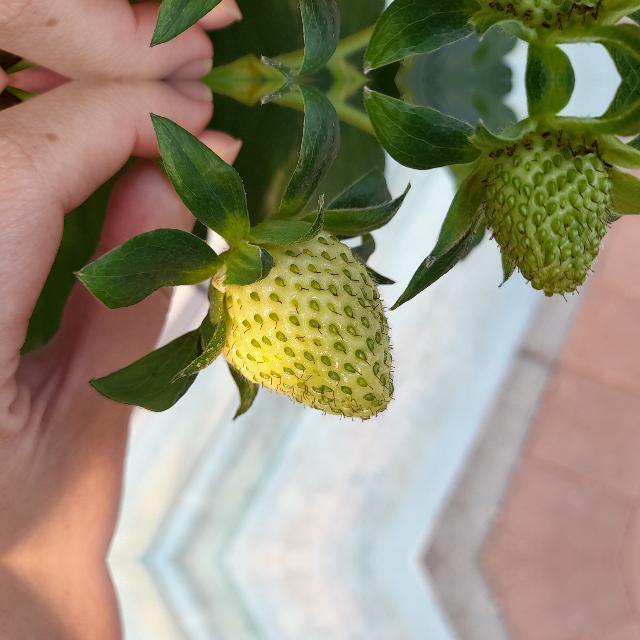Health_25: (222, 229, 396, 423), (480, 131, 614, 299)
